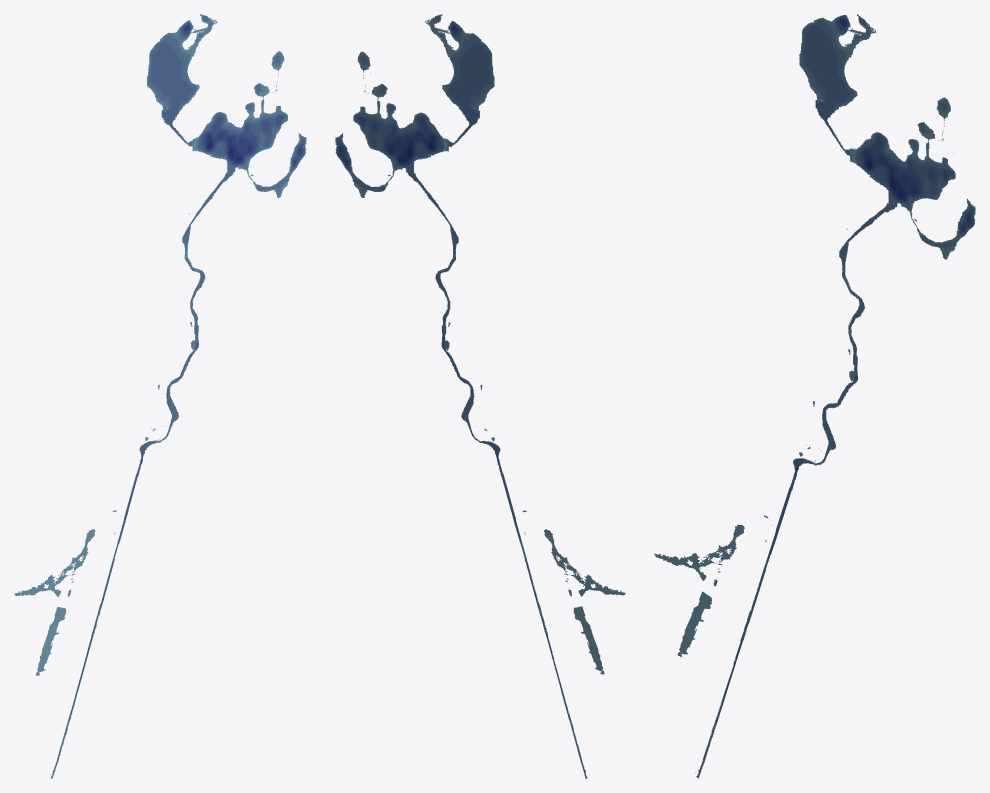
The model's file is triangle_mesh.glb.
3 views of the same model, side by side, from view 1: azimuth 30°, elevation 25°; view 2: azimuth 150°, elevation 25°; view 3: azimuth 330°, elevation 25° (orthographic). The views are drawn at different scales.
Parts seen in each view (by area): view 1: world; view 2: world; view 3: world.
Boxes of the visible parts, box(x1,y1,x2,y2) form: world: box(14, 14, 306, 778); world: box(335, 14, 625, 778); world: box(654, 14, 975, 778).
Bounding box in the file's own units: 1146 × 2739 × 14.13.
